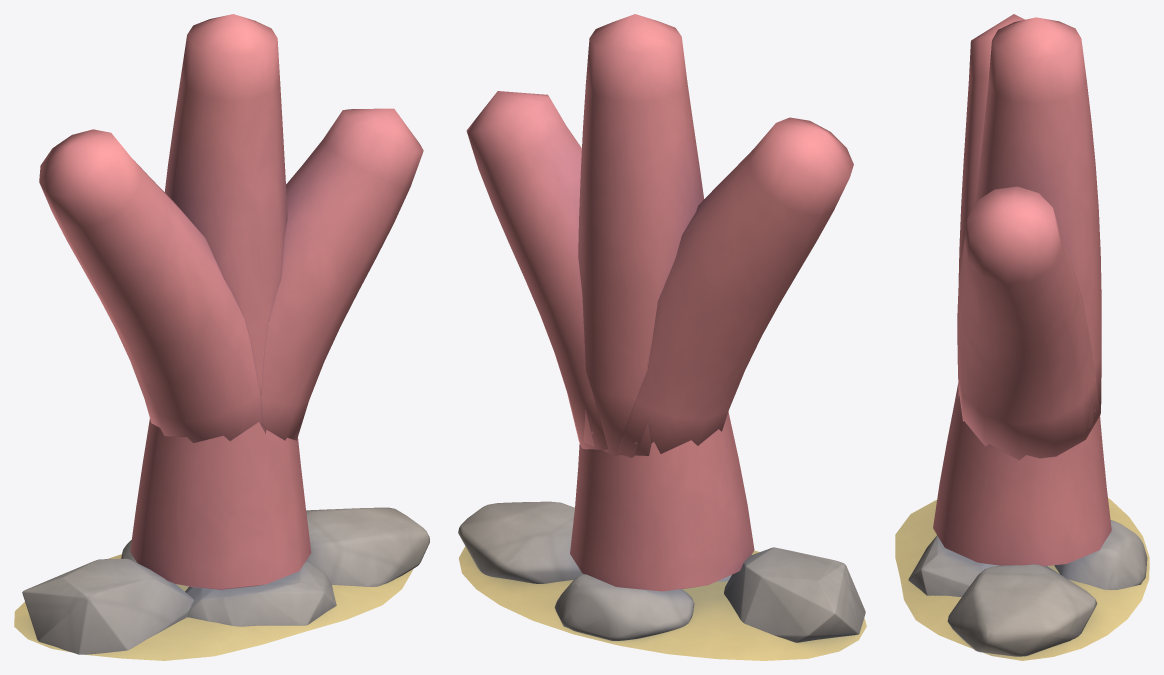
File: CC_P03_BranchCoral.fbx
The picture shows the model from 3 angles, left to right: view 1: azimuth 30°, elevation 25°; view 2: azimuth 150°, elevation 25°; view 3: azimuth 270°, elevation 25°; orthographic projection. The views are drawn at different scales.
Parts seen in each view (by area): view 1: Coral, BaseStone; view 2: Coral, BaseStone; view 3: Coral, BaseStone.
Boxes of the visible parts, <box> form: Coral: <box>39,14,423,589</box>; BaseStone: <box>14,507,429,660</box>; Coral: <box>466,14,853,591</box>; BaseStone: <box>458,501,866,660</box>; Coral: <box>933,14,1111,566</box>; BaseStone: <box>895,498,1149,660</box>.
Bounding box in the file's own units: 1.23 × 1.73 × 0.7113.
